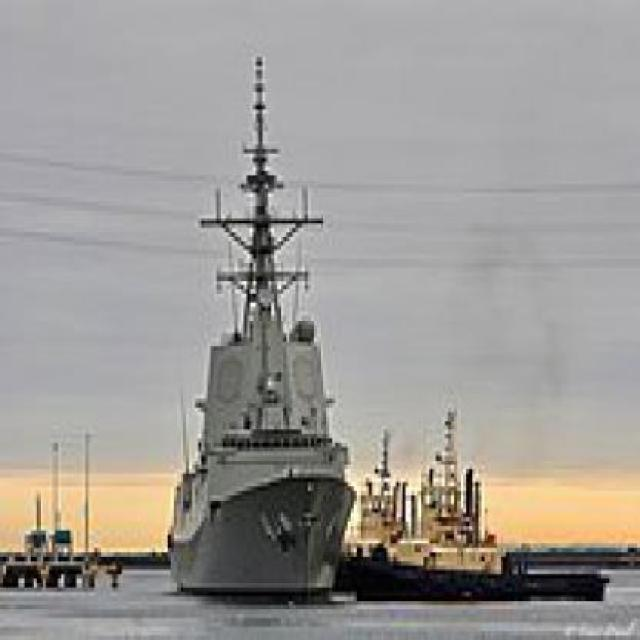warship2: (175, 27, 364, 601)
